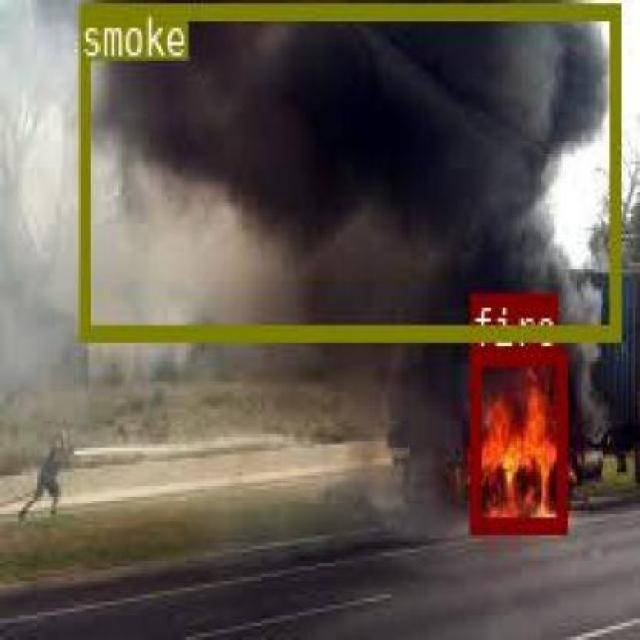fire: (470, 345, 564, 530)
smoke: (79, 1, 619, 338)
